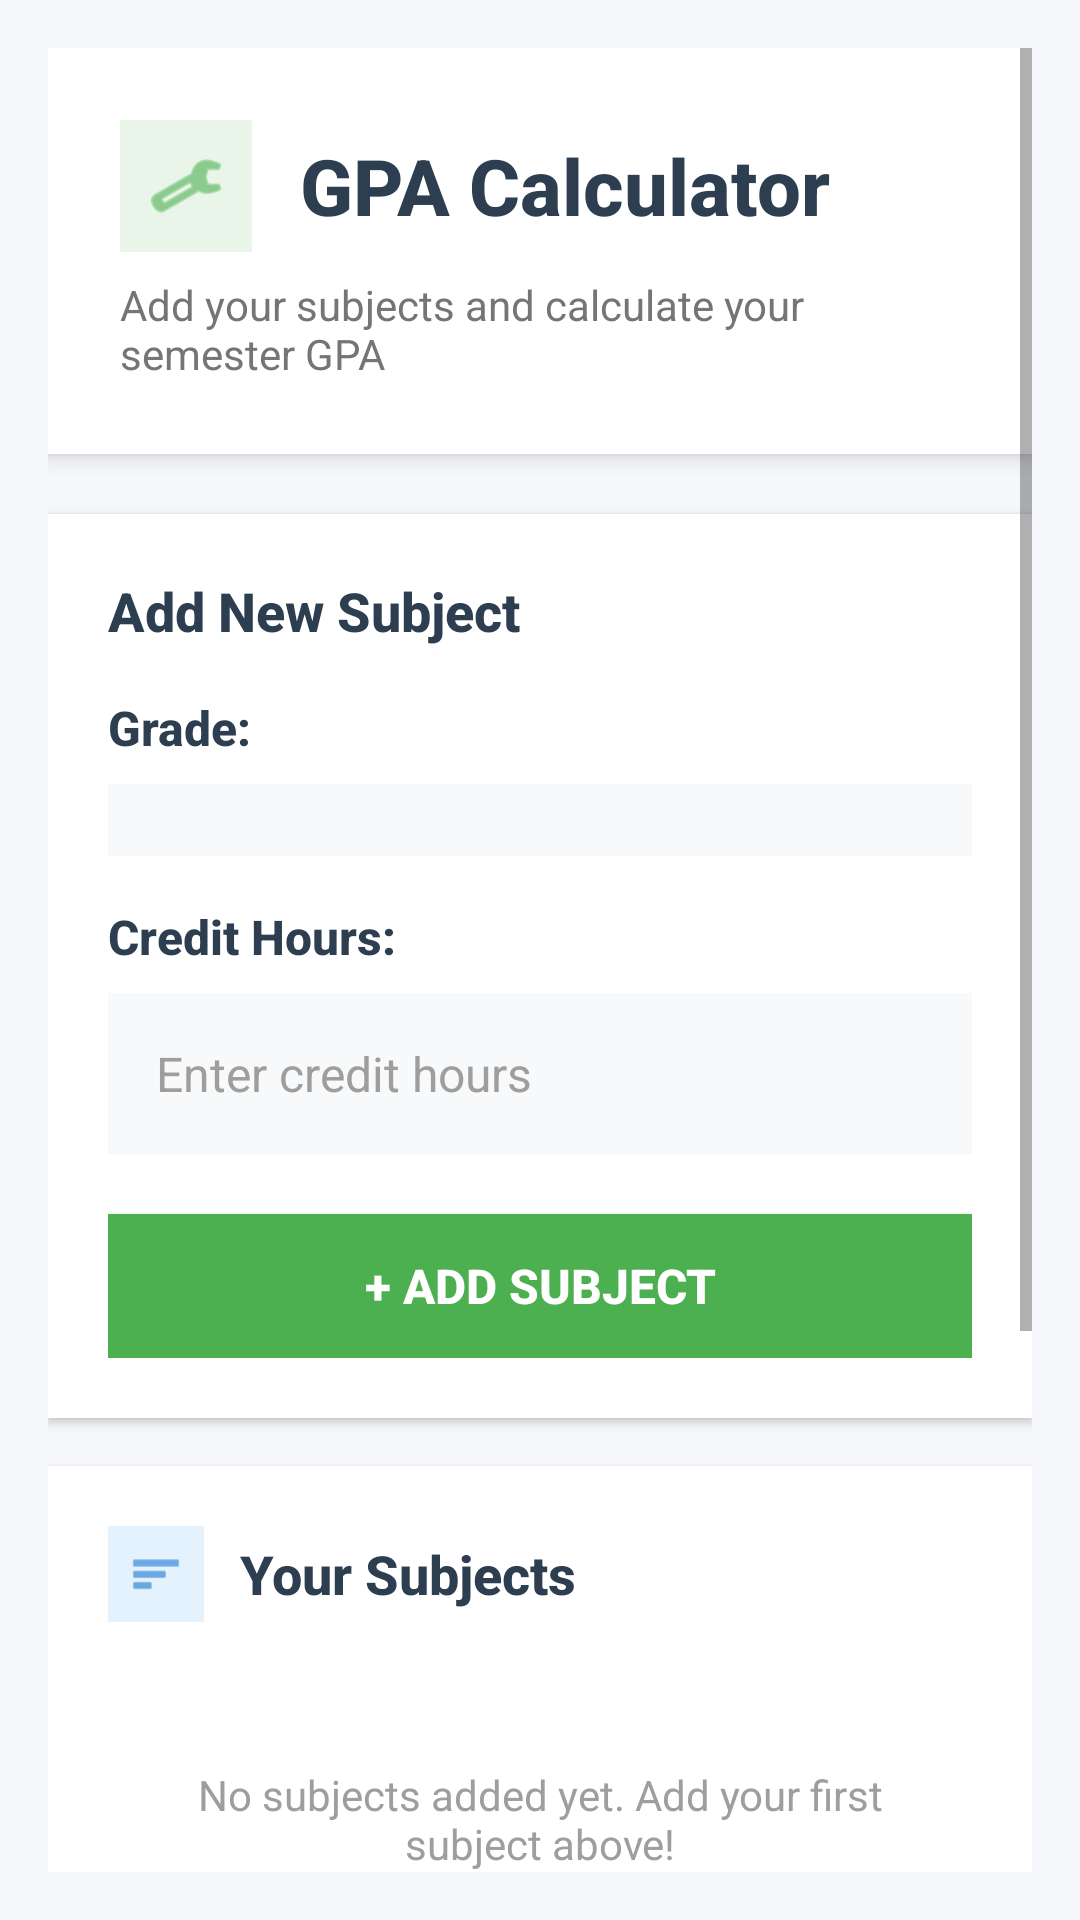

Screen size 1080*1920. Icon name, then its center in pixels as point (x, y):
manage: point (186, 186)
sort by size: point (156, 1574)
